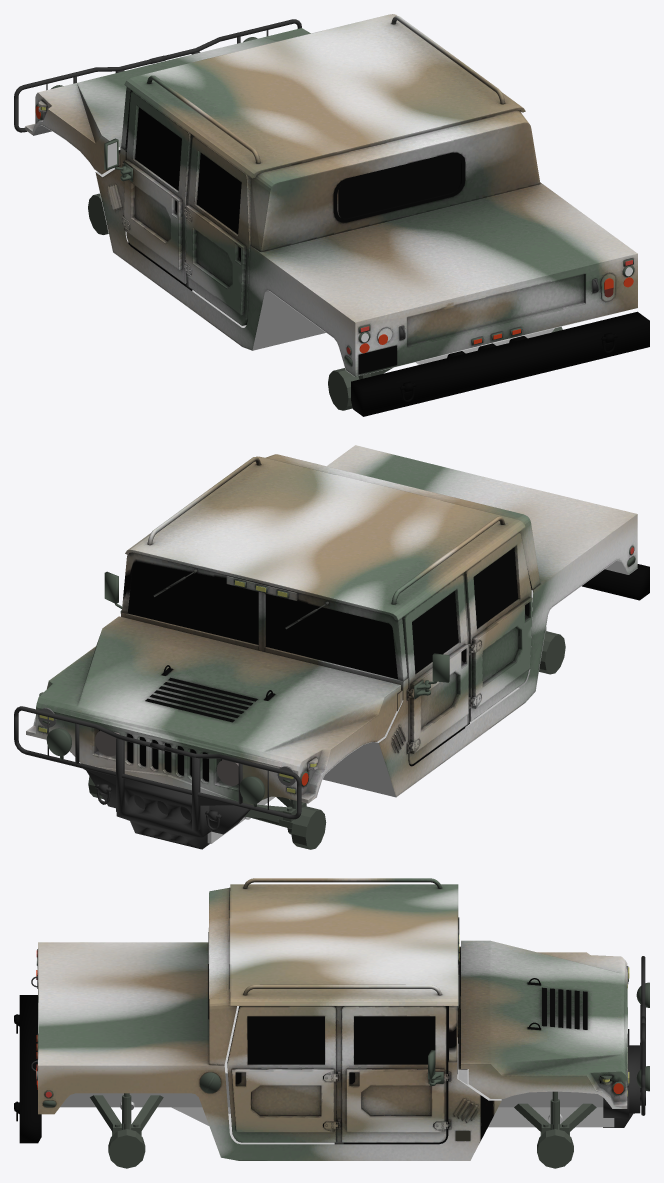
Rendered from Hummer_chassis.dae.
3 views of the same model, one above another, from view 1: azimuth 30°, elevation 25°; view 2: azimuth 150°, elevation 25°; view 3: azimuth 270°, elevation 25° (orthographic). The views are drawn at different scales.
Visible parts, largest first — view 1: HUMMER_TEX_Karosserie, HUMMER_SchwarzeTeile, HUMMER_Fenster, HUMMER_Unterboden, HUMMER_SchwarzeTeile2, HUMMER_SpiegelTeile, HUMMER_Bremslichter; view 2: HUMMER_TEX_Karosserie, HUMMER_Fenster, HUMMER_SpiegelTeile, HUMMER_Unterboden, HUMMER_SchwarzeTeile, HUMMER_SchwarzeTeile2; view 3: HUMMER_TEX_Karosserie, HUMMER_Unterboden, HUMMER_Fenster, HUMMER_SchwarzeTeile, HUMMER_SpiegelTeile, HUMMER_SchwarzeTeile2.
Boxes of the visible parts, x1,y1,x2,y2 form: HUMMER_TEX_Karosserie: [25, 14, 637, 376]; HUMMER_SchwarzeTeile: [35, 37, 649, 416]; HUMMER_Fenster: [125, 90, 460, 290]; HUMMER_Unterboden: [33, 125, 620, 410]; HUMMER_SchwarzeTeile2: [175, 152, 465, 374]; HUMMER_SpiegelTeile: [14, 19, 632, 342]; HUMMER_Bremslichter: [35, 106, 633, 353]; HUMMER_TEX_Karosserie: [26, 445, 637, 805]; HUMMER_Fenster: [127, 547, 518, 766]; HUMMER_SpiegelTeile: [14, 706, 301, 849]; HUMMER_Unterboden: [88, 560, 637, 849]; HUMMER_SchwarzeTeile: [38, 546, 649, 807]; HUMMER_SchwarzeTeile2: [99, 603, 529, 784]; HUMMER_TEX_Karosserie: [37, 878, 627, 1160]; HUMMER_Unterboden: [38, 1003, 614, 1168]; HUMMER_Fenster: [247, 1006, 448, 1144]; HUMMER_SchwarzeTeile: [14, 917, 649, 1143]; HUMMER_SpiegelTeile: [36, 956, 645, 1127]; HUMMER_SchwarzeTeile2: [208, 932, 587, 1084].
Bounding box in the file's own units: 5.1 × 9.13 × 3.
21 materials, 1 textured.
